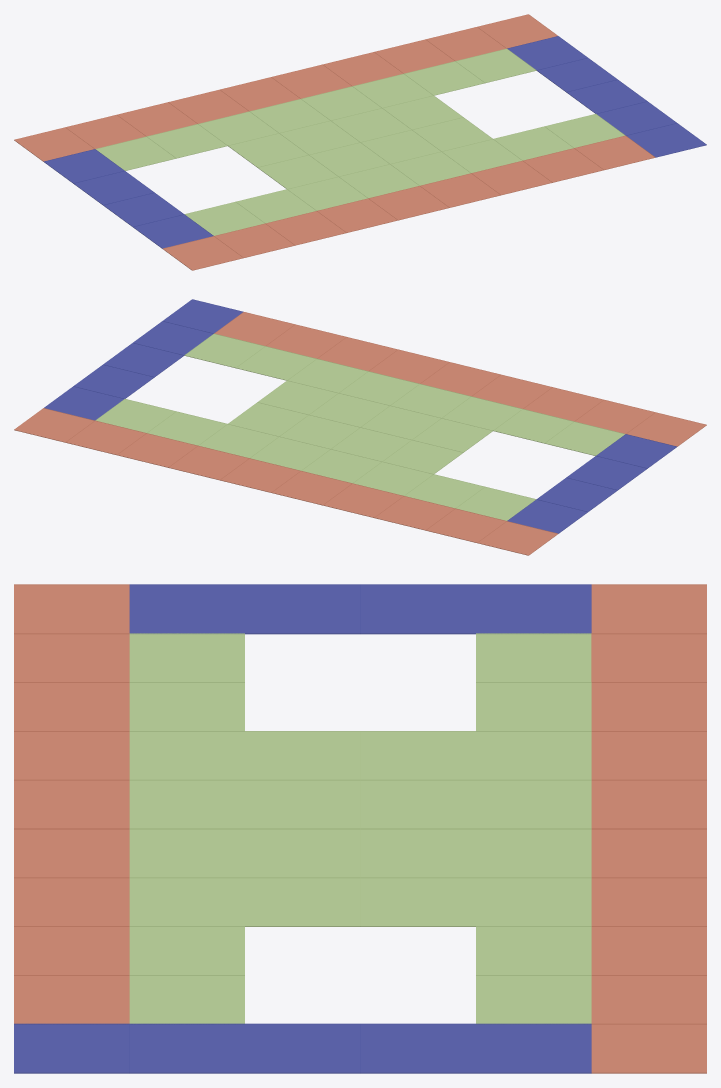
3 renders of one model, top to bottom at view 1: azimuth 30°, elevation 25°; view 2: azimuth 150°, elevation 25°; view 3: azimuth 270°, elevation 25°, orthographic. The views are drawn at different scales.
Visible parts, largest first — view 1: polySurface300, polySurface439, polySurface326, polySurface444, polySurface446, polySurface420, polySurface422, polySurface302, polySurface347, polySurface419, polySurface421, polySurface445 (+40 smaller); view 2: polySurface448, polySurface293, polySurface451, polySurface423, polySurface431, polySurface432, polySurface452, polySurface455, polySurface456, polySurface450, polySurface454, polySurface424 (+40 smaller); view 3: polySurface296, polySurface326, polySurface328, polySurface449, polySurface299, polySurface327, polySurface329, polySurface457, polySurface300, polySurface301, polySurface418, polySurface419 (+40 smaller).
Boxes of the visible parts, x1,y1,x2,y2 form: polySurface300: [162, 236, 243, 270]; polySurface439: [147, 124, 227, 158]; polySurface326: [626, 123, 706, 157]; polySurface444: [404, 61, 484, 95]; polySurface446: [95, 136, 176, 170]; polySurface420: [471, 160, 552, 195]; polySurface422: [574, 135, 655, 170]; polySurface302: [214, 223, 295, 257]; polySurface347: [266, 211, 346, 245]; polySurface419: [420, 173, 500, 207]; polySurface421: [523, 148, 603, 182]; polySurface445: [456, 48, 536, 83]; polySurface448: [477, 521, 558, 555]; polySurface293: [425, 508, 506, 542]; polySurface451: [322, 483, 403, 517]; polySurface423: [544, 421, 625, 455]; polySurface431: [236, 346, 316, 380]; polySurface432: [184, 333, 264, 368]; polySurface452: [271, 471, 351, 505]; polySurface455: [117, 433, 197, 467]; polySurface456: [65, 420, 146, 455]; polySurface450: [374, 496, 454, 530]; polySurface454: [168, 445, 249, 480]; polySurface424: [493, 409, 573, 443]; polySurface296: [360, 584, 475, 634]; polySurface326: [14, 1023, 129, 1073]; polySurface328: [245, 1023, 360, 1073]; polySurface449: [476, 1023, 591, 1073]; polySurface299: [245, 584, 360, 634]; polySurface327: [129, 1023, 244, 1073]; polySurface329: [360, 1023, 475, 1073]; polySurface457: [591, 1023, 706, 1073]; polySurface300: [14, 584, 129, 633]; polySurface301: [129, 584, 244, 633]; polySurface418: [14, 779, 129, 828]; polySurface419: [14, 828, 129, 877].
Size of the model in its own units: 10 by 0.01 by 6.
